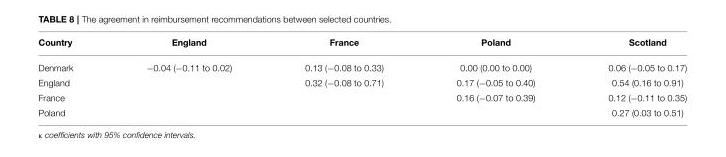table: (37, 37, 686, 117)
table column: (109, 37, 267, 117), (267, 37, 419, 117), (419, 37, 570, 117), (570, 37, 686, 117), (37, 37, 109, 117)
table column header: (37, 37, 686, 54)
table row: (37, 54, 686, 75), (37, 37, 686, 54), (37, 75, 686, 90), (37, 90, 686, 105), (37, 105, 686, 117)
